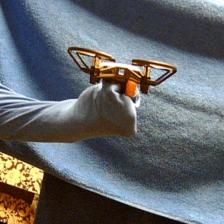drone: (69, 41, 177, 100)
